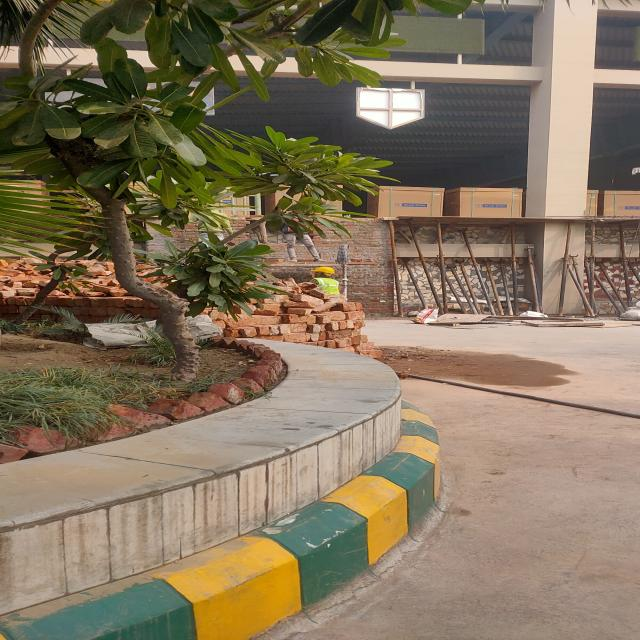safe: (311, 266, 341, 296)
